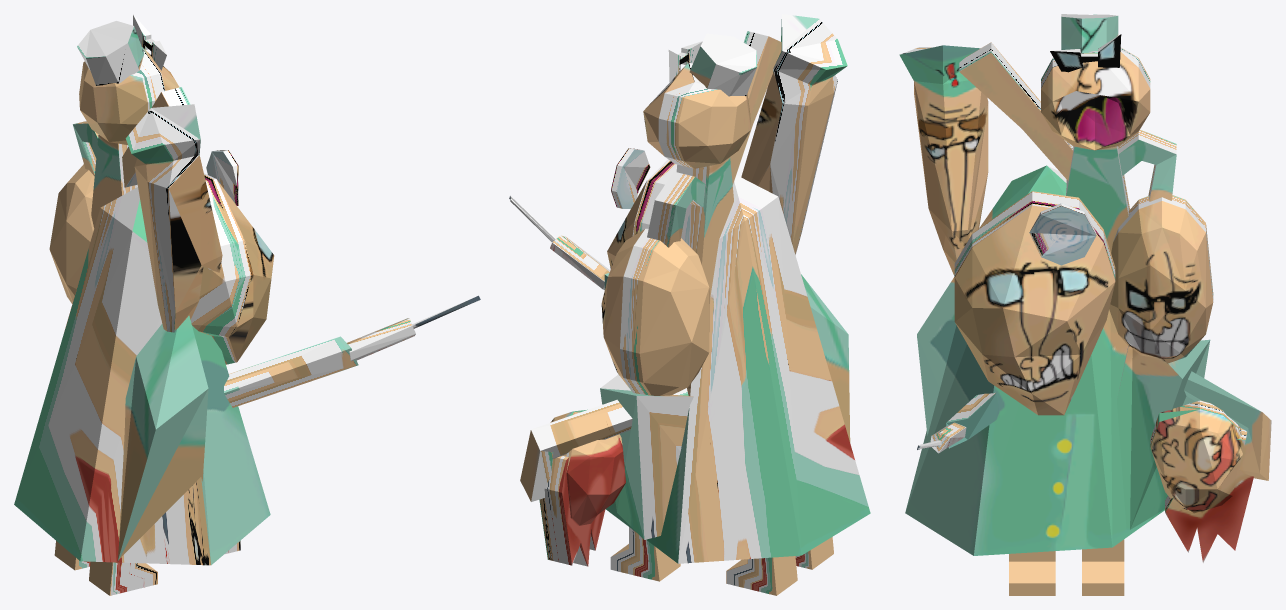
The model's file is DocRide.glb.
3 renders of one model, left to right at view 1: azimuth 30°, elevation 25°; view 2: azimuth 150°, elevation 25°; view 3: azimuth 270°, elevation 25°, orthographic. The views are drawn at different scales.
Visible parts, largest first — view 1: DocRide; view 2: DocRide; view 3: DocRide.
Part boxes in pixels (<box>): DocRide: <box>14,14,480,595</box>; DocRide: <box>509,14,870,595</box>; DocRide: <box>899,14,1271,595</box>.
Size of the model in its own units: 117 by 155 by 96.63.
1 material, 1 textured.
